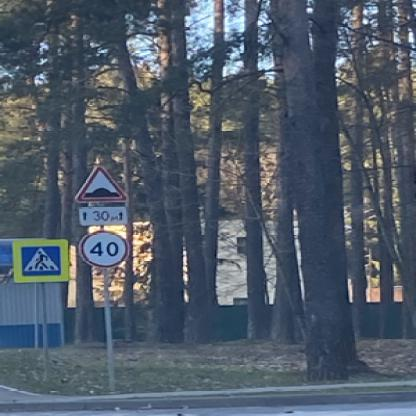crosswalk: (18, 246, 60, 276)
speedlimit: (78, 230, 126, 268)
